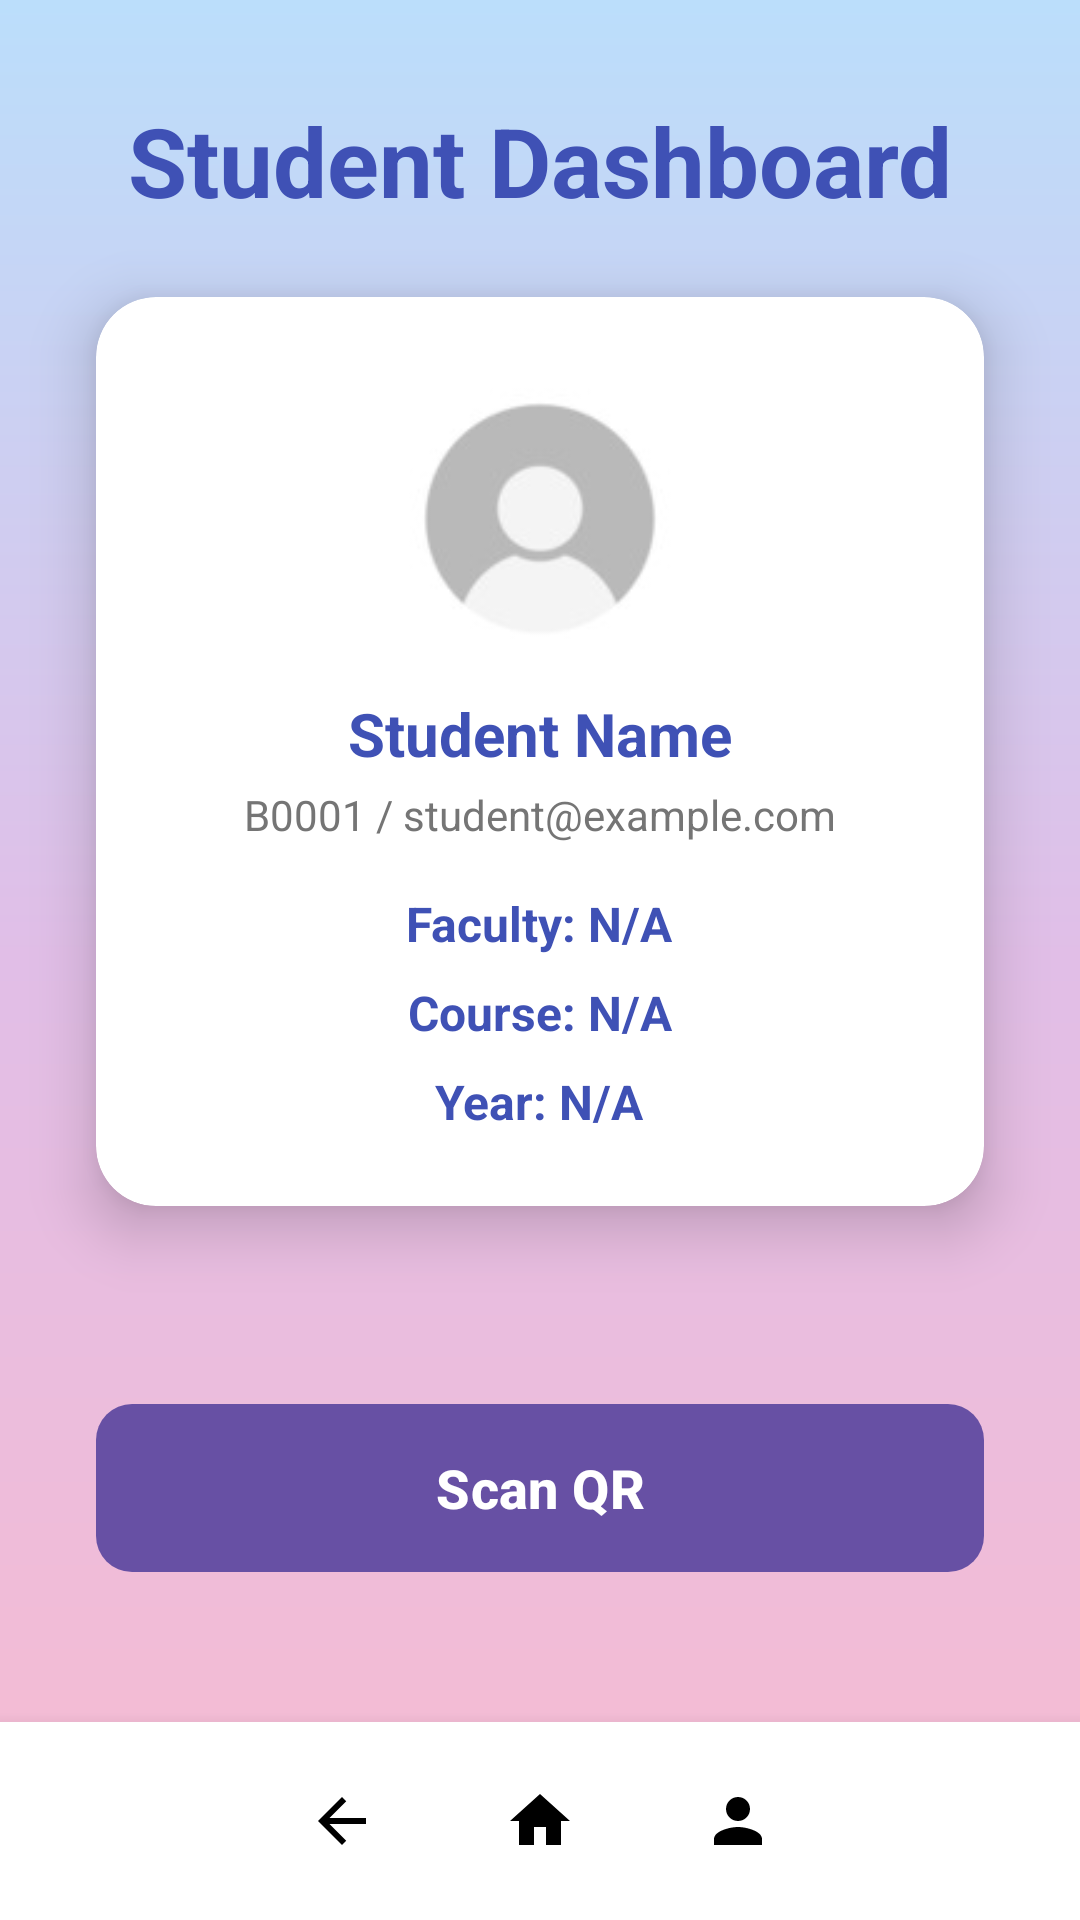

Screen size 1080 × 1920. Icon name, then its center in pixels as (x,y):
Back: (342,1821)
Home: (540,1819)
Profile: (738,1821)
Profile Image: (540,503)
